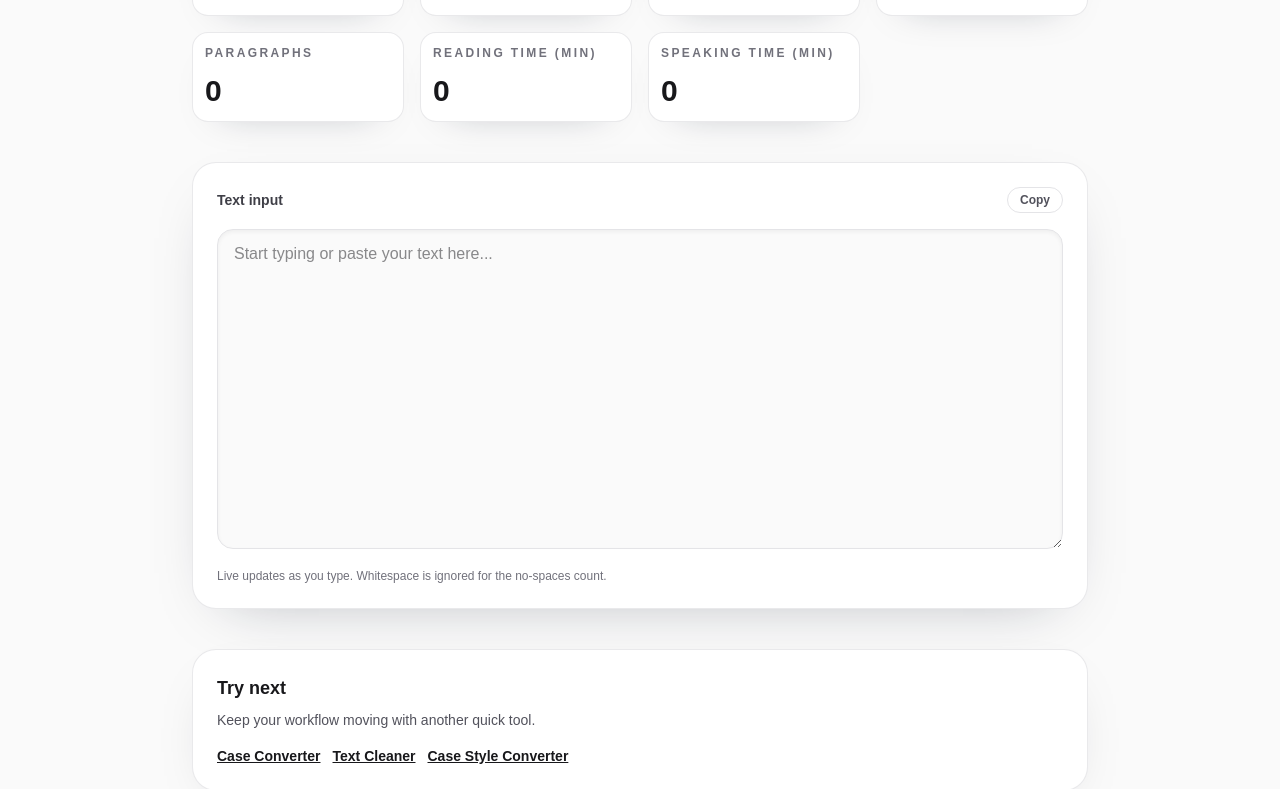
Test case: Word Counter page › renders inputs and updates counts
The width and height of the screenshot is (1280, 789).
(page scrolled)
Type "Hello world" into the text box labelled "Text input".
click(640, 389); type("Hello world")  # box [217, 229, 1063, 549]
(page scrolled)
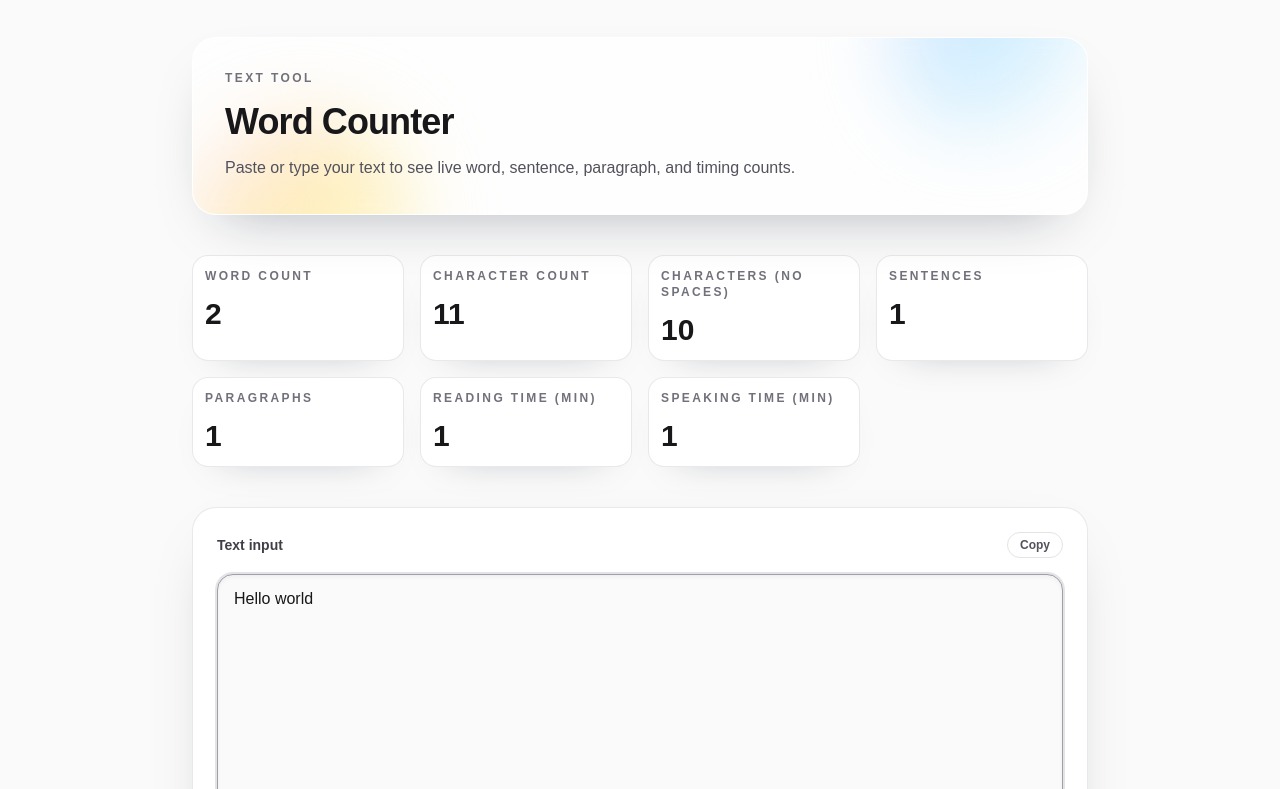
Now the text "2" is shown, box [205, 297, 222, 330]
Now the text "11" is shown, box [433, 297, 465, 330]
Now the text "10" is shown, box [661, 313, 694, 346]
